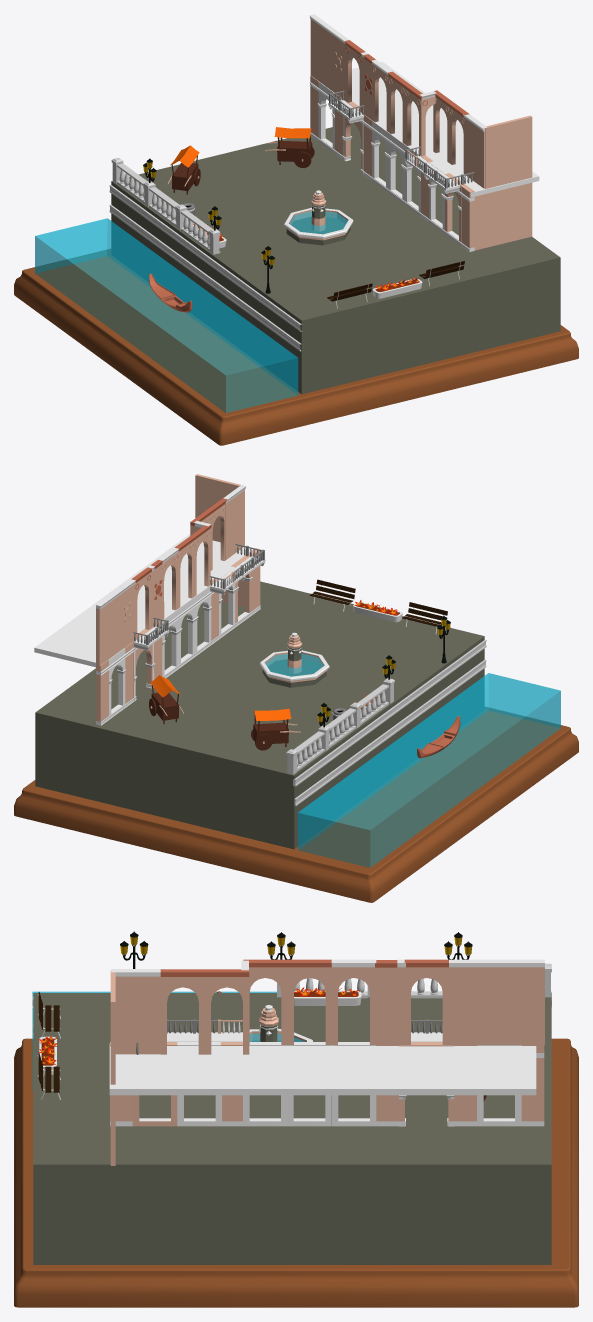
The model's file is Level2_2.FBX.
The picture shows the model from 3 angles, top to bottom: view 1: azimuth 30°, elevation 25°; view 2: azimuth 150°, elevation 25°; view 3: azimuth 270°, elevation 25°; orthographic projection. The views are drawn at different scales.
Visible parts, largest first — view 1: Box034, Container001, Box044, Box014, Cylinder099, Box012, Box046, Box027, Box020, Box088, Tube008, Tube007 (+13 smaller); view 2: Box034, Container001, Box014, Cylinder099, Box012, Box044, Box046, Box019, Box020, Box022, Box023, Box088 (+13 smaller); view 3: Box034, Container001, Box014, Box012, Box046, Box008, Tube009, Box010, Tube012, Tube011, Tube008, Tube007 (+18 smaller).
Part boxes in pixels (box(x1,y1,x2,y2)): Box034: box(111, 123, 560, 394); Container001: box(14, 157, 578, 445); Box044: box(474, 115, 532, 250); Box014: box(352, 61, 539, 197); Cylinder099: box(284, 190, 353, 245); Box012: box(309, 14, 337, 92); Box046: box(463, 114, 487, 188); Box027: box(460, 185, 474, 251); Box020: box(387, 132, 404, 203); Box088: box(371, 120, 388, 192); Tube008: box(371, 59, 392, 132); Tube007: box(344, 40, 365, 112); Box034: box(35, 581, 484, 849); Container001: box(14, 640, 578, 902); Box014: box(34, 534, 253, 667); Cylinder099: box(259, 632, 329, 687); Box012: box(96, 587, 124, 666); Box044: box(195, 474, 244, 606); Box046: box(223, 485, 245, 560); Box019: box(194, 585, 212, 656); Box020: box(178, 597, 195, 668); Box022: box(108, 648, 126, 719); Box023: box(96, 660, 109, 725); Box088: box(162, 609, 179, 678); Box034: box(33, 993, 551, 1264); Container001: box(14, 963, 578, 1307); Box014: box(109, 1044, 536, 1095); Box012: box(479, 959, 544, 1044); Box046: box(111, 969, 164, 1054); Box008: box(375, 960, 397, 1044); Tube009: box(287, 959, 331, 1044); Box010: box(458, 959, 479, 1044); Tube012: box(160, 969, 205, 1054); Tube011: box(205, 969, 249, 1054); Tube008: box(331, 959, 376, 1044); Tube007: box(404, 959, 448, 1044).
Size of the model in its own units: 336 by 195 by 336.
